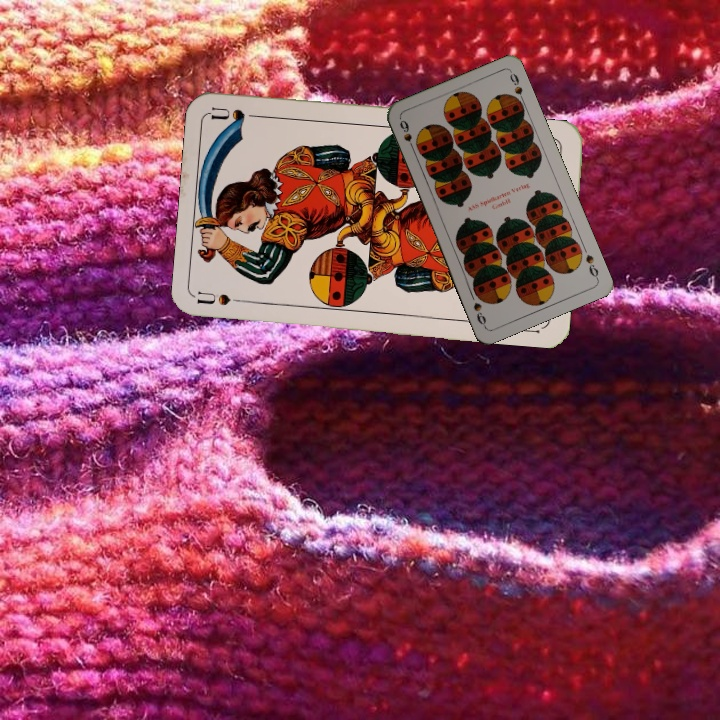S9: (396, 116, 418, 154), (581, 250, 601, 282)
SU: (195, 287, 255, 308)
